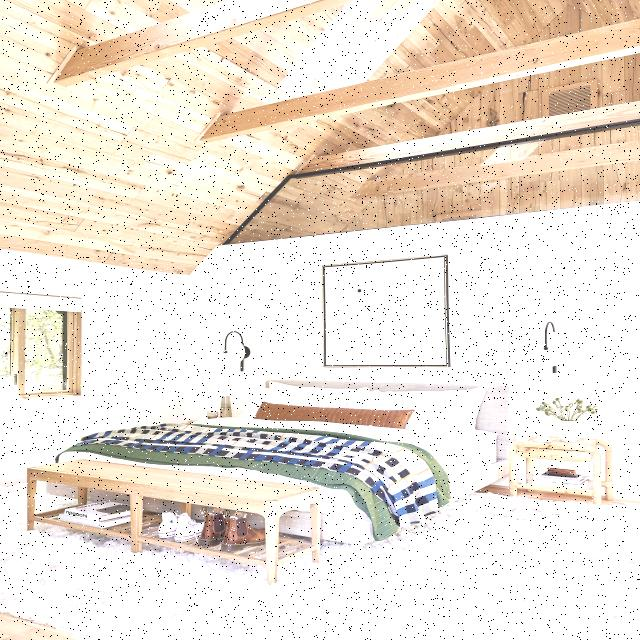bed: (107, 360, 507, 539)
